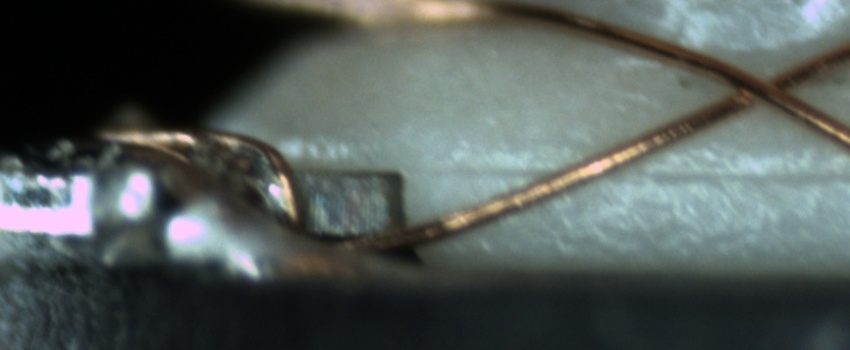CL: (708, 53, 814, 120)
DL: (416, 145, 850, 200)
TE: (95, 114, 318, 237)
